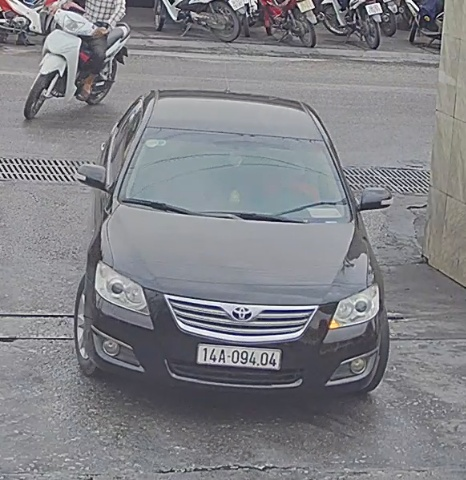vehicle plate: (193, 337, 284, 371)
